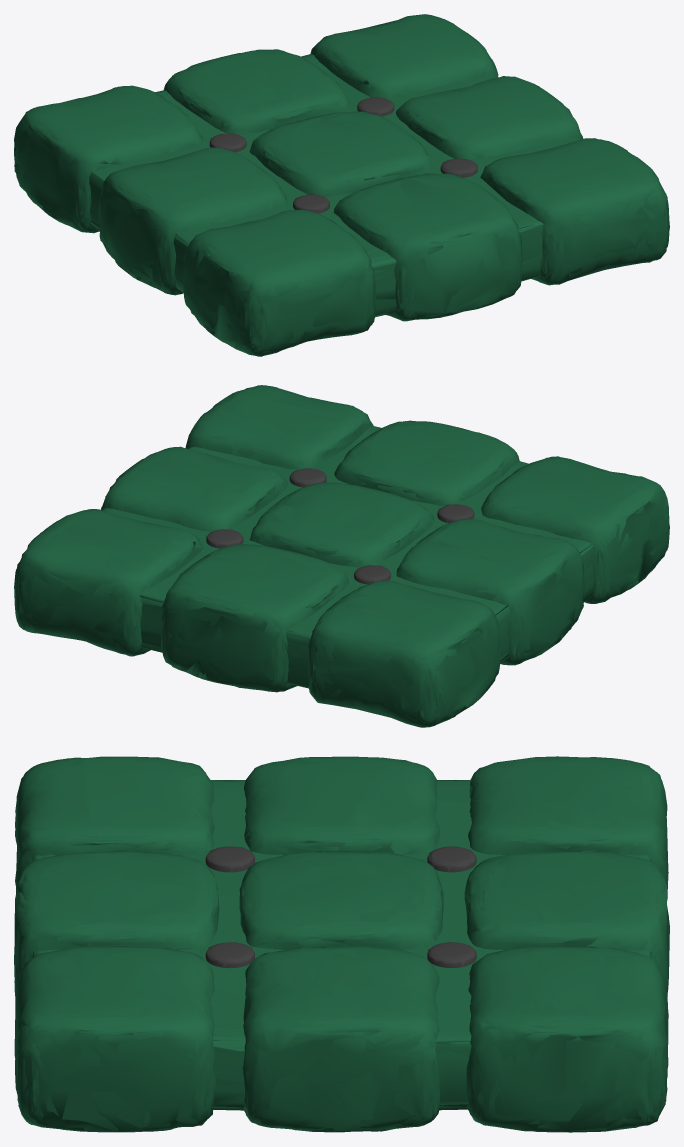
Rendered from kissen.glb.
The picture shows the model from 3 angles, top to bottom: view 1: azimuth 30°, elevation 25°; view 2: azimuth 150°, elevation 25°; view 3: azimuth 270°, elevation 25°; orthographic projection. The views are drawn at different scales.
Parts seen in each view (by area): view 1: Cylinder, Cylinder.001; view 2: Cylinder, Cylinder.001; view 3: Cylinder, Cylinder.001.
Part boxes in pixels (x1=…): Cylinder: x1=14, y1=14, x2=669, y2=356; Cylinder.001: x1=14, y1=14, x2=669, y2=356; Cylinder: x1=14, y1=385, x2=669, y2=727; Cylinder.001: x1=14, y1=385, x2=669, y2=727; Cylinder: x1=14, y1=756, x2=669, y2=1132; Cylinder.001: x1=14, y1=756, x2=669, y2=1132.
Size of the model in its own units: 6.43 by 1.2 by 6.42.
